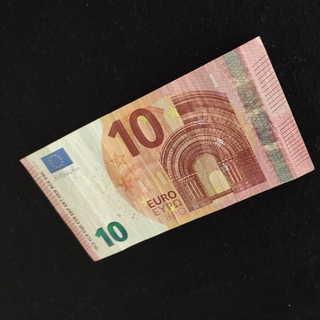10EUROFront: (19, 34, 315, 263)
